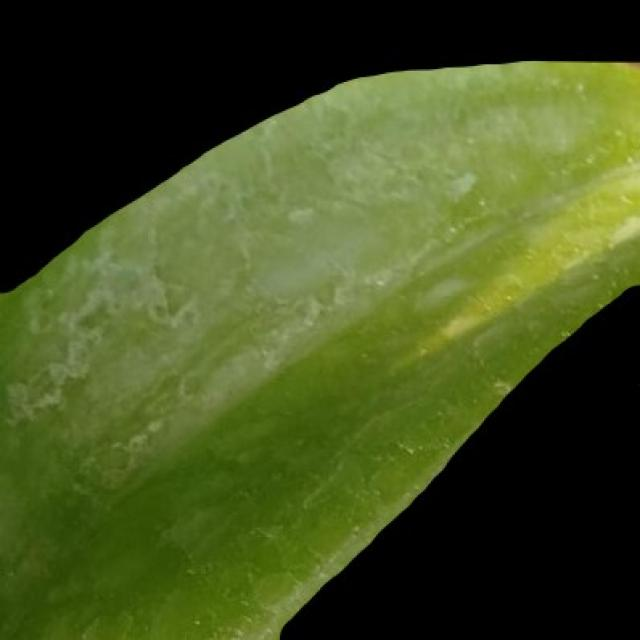mite: (240, 195, 396, 307), (71, 437, 133, 495), (416, 270, 473, 314), (441, 166, 478, 204)
spots: (0, 56, 638, 638)
sunburn: (273, 273, 638, 638)
